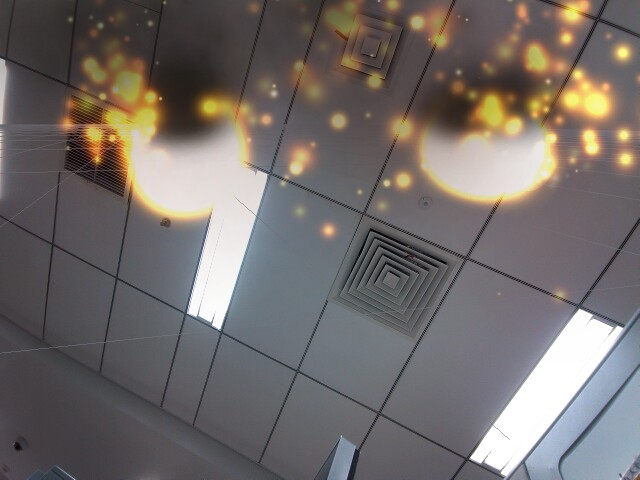fire: (422, 92, 559, 202), (126, 108, 256, 219)
